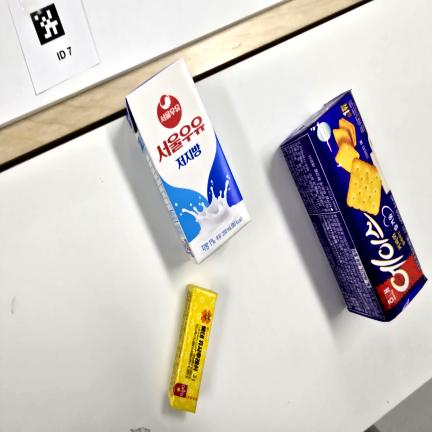cracker_ace: (280, 90, 427, 322)
cracker_vege: (126, 58, 250, 264)
gum_yellow: (168, 284, 217, 413)
